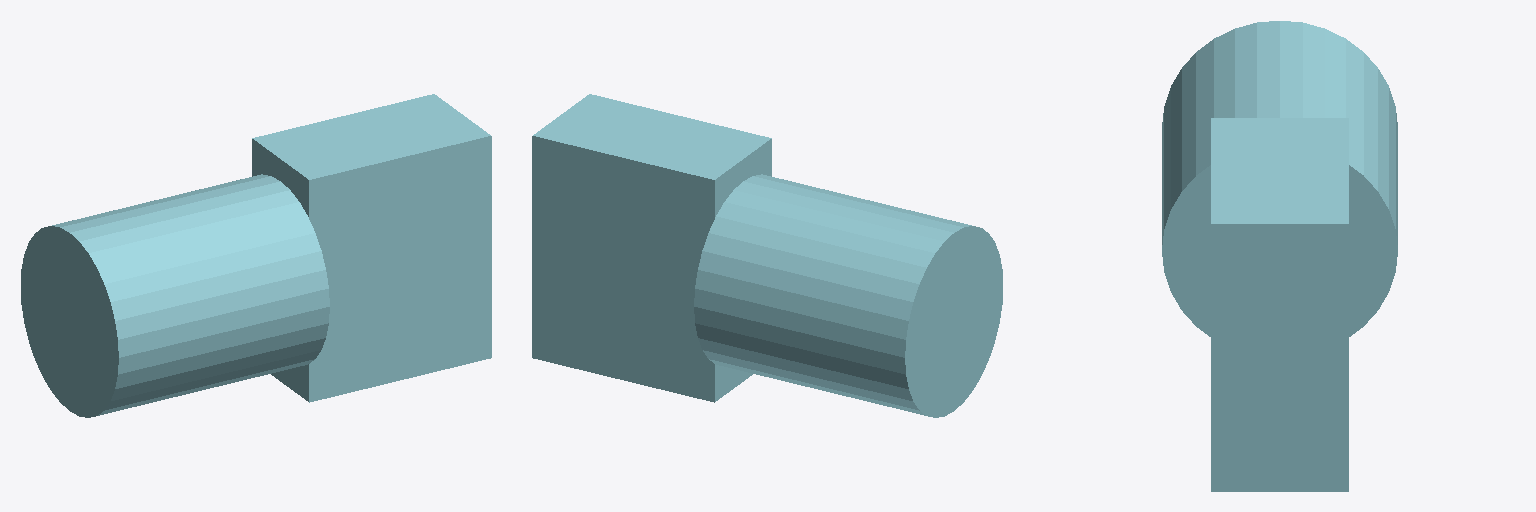
The robot description file, URDF, robot "cylinder_brush_v9011":
<?xml version="1.0"?>
<robot name="cylinder_brush_v9011">

  <link name="cylinder_brush_v9011">
    <!-- Handle -->
    <visual>
      <origin xyz="0 0 0" rpy="0 1.5707963267948966 0"/>
      <geometry>
        <cylinder length="0.07240612345522263" radius="0.029230992590820647"/>
      </geometry>
      <material name="material">
        <color rgba="0.639 0.847 0.882 1.0"/>
      </material>
    </visual>
    <collision>
      <origin xyz="0 0 0" rpy="0 1.5707963267948966 0"/>
      <geometry>
        <cylinder length="0.07240612345522263" radius="0.029230992590820647"/>
      </geometry>
    </collision>

    <!-- Head -->
    <visual>
      <origin xyz="0.06744852339137539 0 0" rpy="0 0 0"/>
      <geometry>
        <box size="0.06249092332752816 0.033990839857989806 0.07294914302788569"/>
      </geometry>
      <material name="material">
        <color rgba="0.639 0.847 0.882 1.0"/>
      </material>
    </visual>
    <collision>
      <origin xyz="0.06744852339137539 0 0" rpy="0 0 0"/>
      <geometry>
        <box size="0.06249092332752816 0.033990839857989806 0.07294914302788569"/>
      </geometry>
    </collision>

    <inertial>
      <density value="400.0"/>
    </inertial>
  </link>

</robot>

--- What the picture shows (computed from the rendered views, not written in the file) ---
3 views of the same robot in one strip: view 1: azimuth 30°, elevation 25°; view 2: azimuth 150°, elevation 25°; view 3: azimuth 270°, elevation 25° (orthographic).
Model cylinder_brush_v9011 with 1 links and 0 joints (none), rooted at cylinder_brush_v9011, posed all joints at 0.
Links seen in each view (by area): view 1: cylinder_brush_v9011; view 2: cylinder_brush_v9011; view 3: cylinder_brush_v9011.
Link boxes in pixels (left/top/right/bottom): cylinder_brush_v9011: left=21, top=94, right=491, bottom=417; cylinder_brush_v9011: left=532, top=94, right=1002, bottom=417; cylinder_brush_v9011: left=1162, top=21, right=1397, bottom=491.
Size in the robot's own frame: 0.1349 by 0.0585 by 0.0729 metres.
Geometry: primitives only (box / cylinder / sphere), no mesh files.
